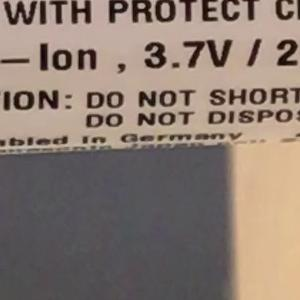3.7V: (134, 29, 241, 79)
